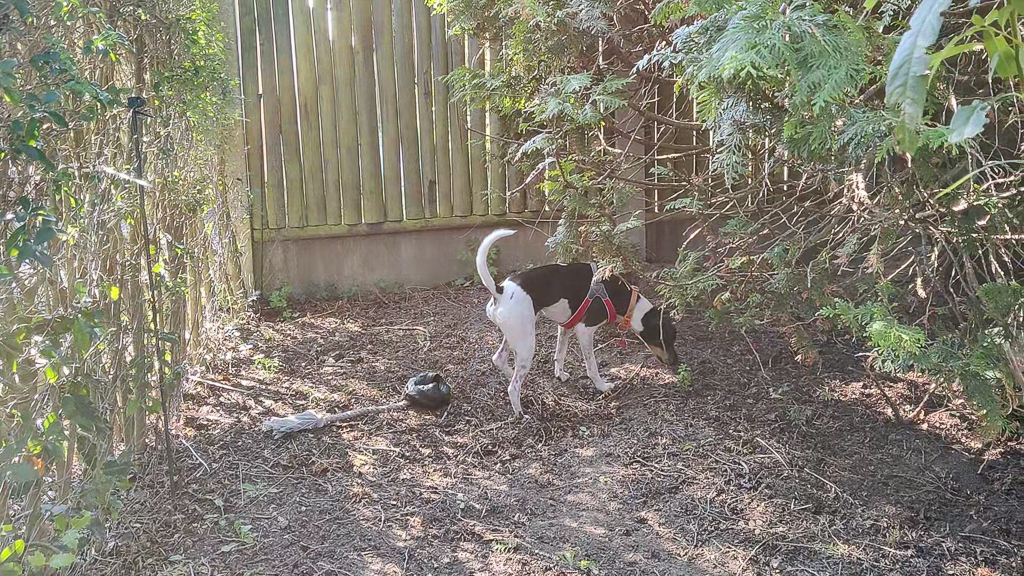Dog: (458, 217, 704, 430)
